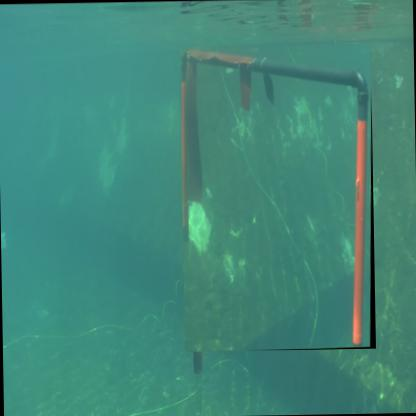gate: (181, 45, 378, 354)
